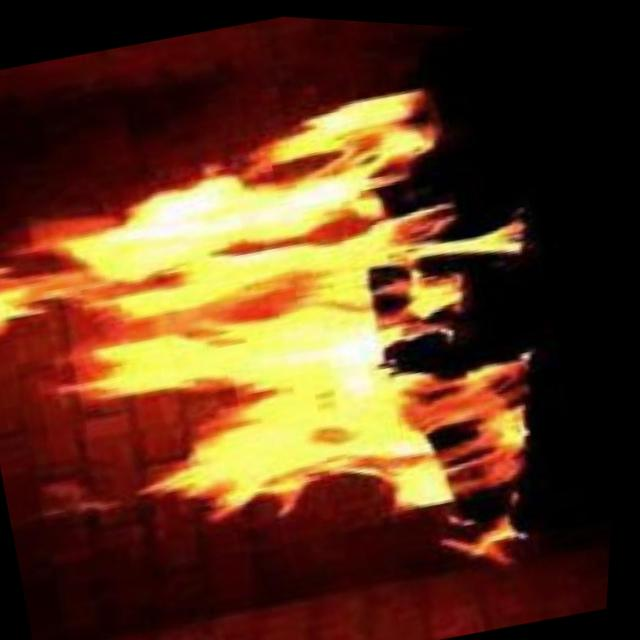Fire: (0, 113, 524, 588)
